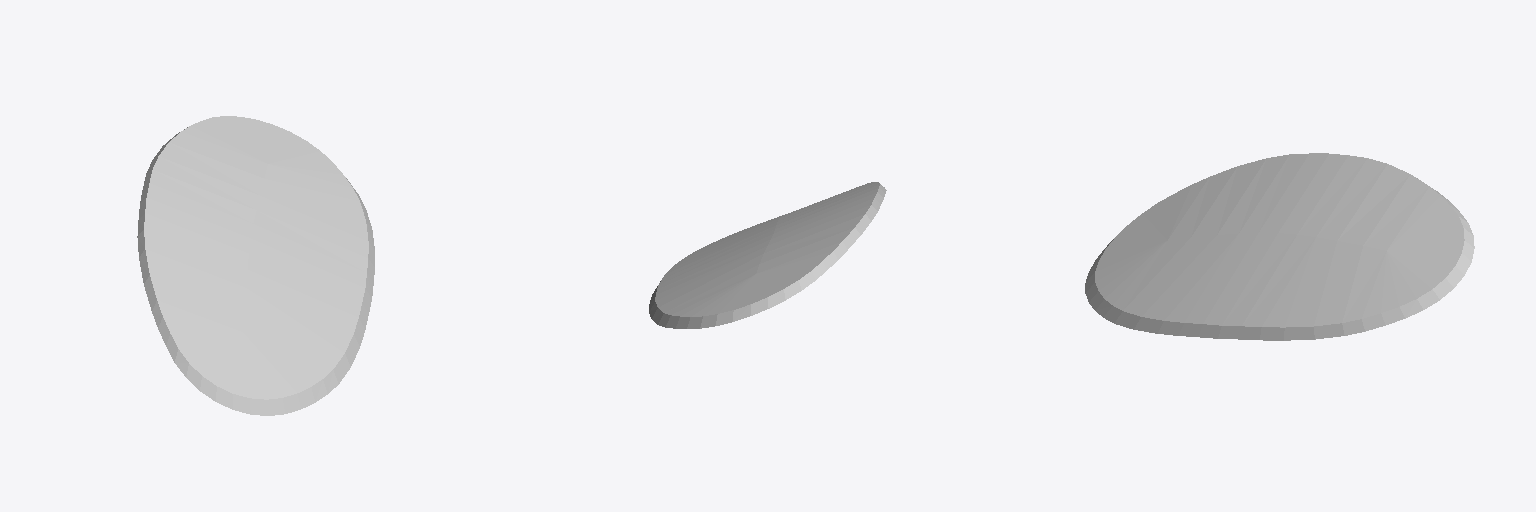
The model's file is vespa_odometer.obj.
3 renders of one model, left to right at view 1: azimuth 30°, elevation 25°; view 2: azimuth 210°, elevation 25°; view 3: azimuth 270°, elevation 25°, orthographic.
Size of the model in its own units: 7.07 by 3.32 by 8.21.